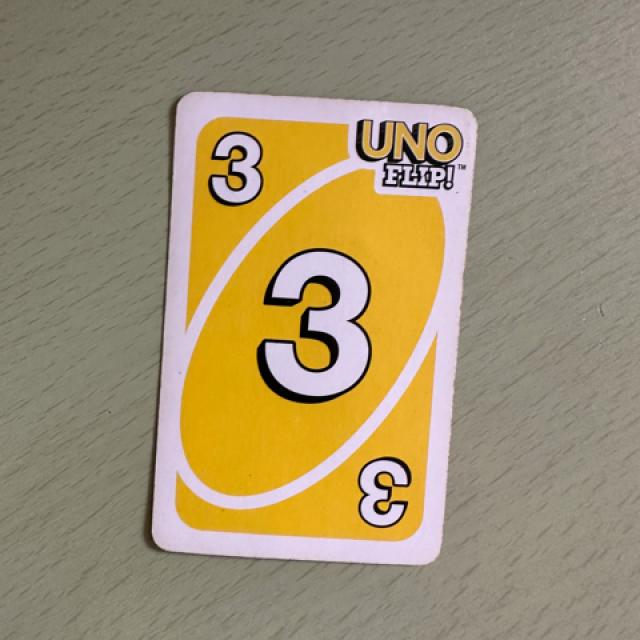lyellow-3: (187, 108, 277, 228)
